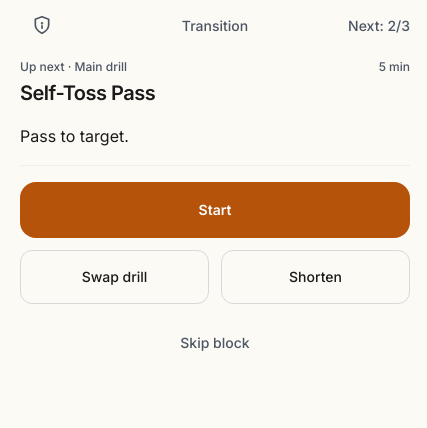
Test: TransitionScreen controller outcomes › shows a no-alternates error when pre-start swap returns false
Step 1. Click the button "Swap drill" → x=114, y=277, box left=20, top=250, right=209, bottom=304
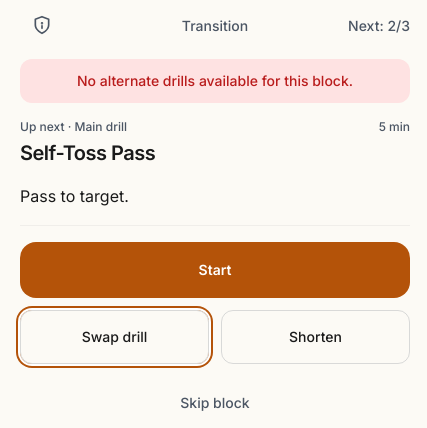
Expected: the heading "Self-Toss Pass" is shown, left=20, top=141, right=155, bottom=165
Expected: the text "No alternate drills available for this block." is shown, left=20, top=59, right=410, bottom=103
